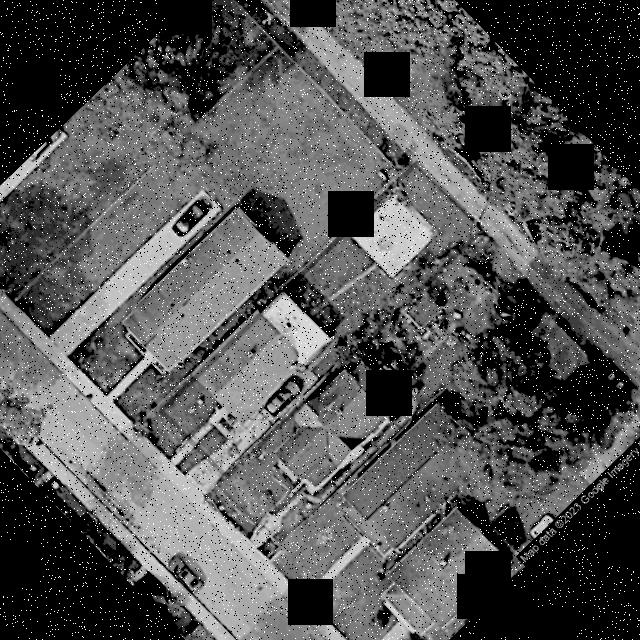Driveway: (209, 360, 318, 471)
Extra Driveway: (183, 459, 220, 498)
Extra Lawn: (136, 409, 185, 460), (175, 449, 202, 474)
Extra Sidewalk: (169, 442, 192, 466)
House: (197, 316, 297, 422)
Other: (350, 194, 432, 277), (262, 293, 330, 365)
Sidewalk: (288, 279, 342, 336), (327, 263, 375, 300), (190, 406, 227, 443), (218, 426, 230, 438)
